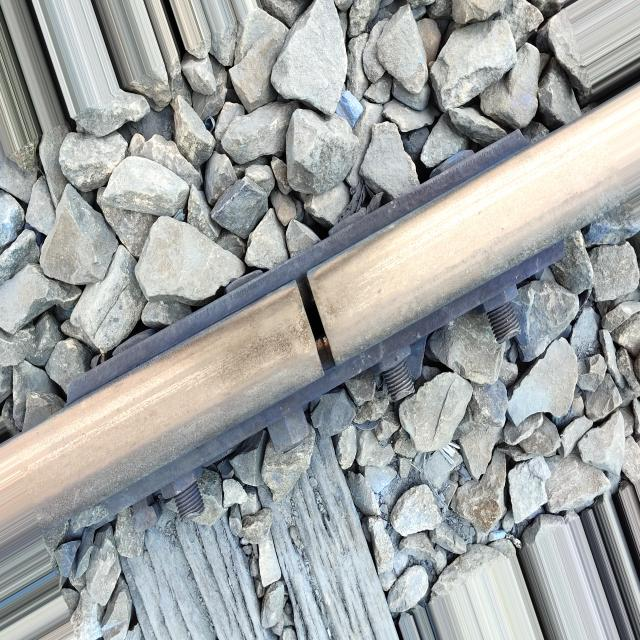crack: (260, 246, 363, 390)
